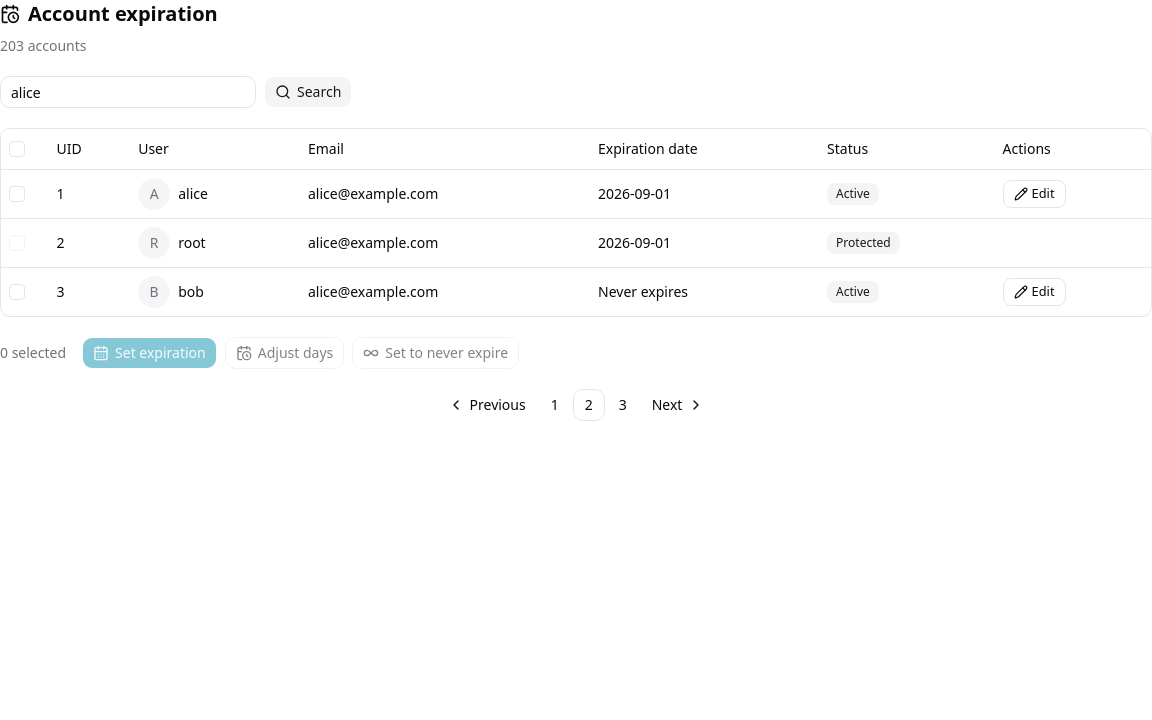
Test: ExpirationPage › rejects invalid days 0
The image size is (1152, 720).
Step 1. Click the checkbox named "Select alice" → (17, 194), box [9,186,25,202]
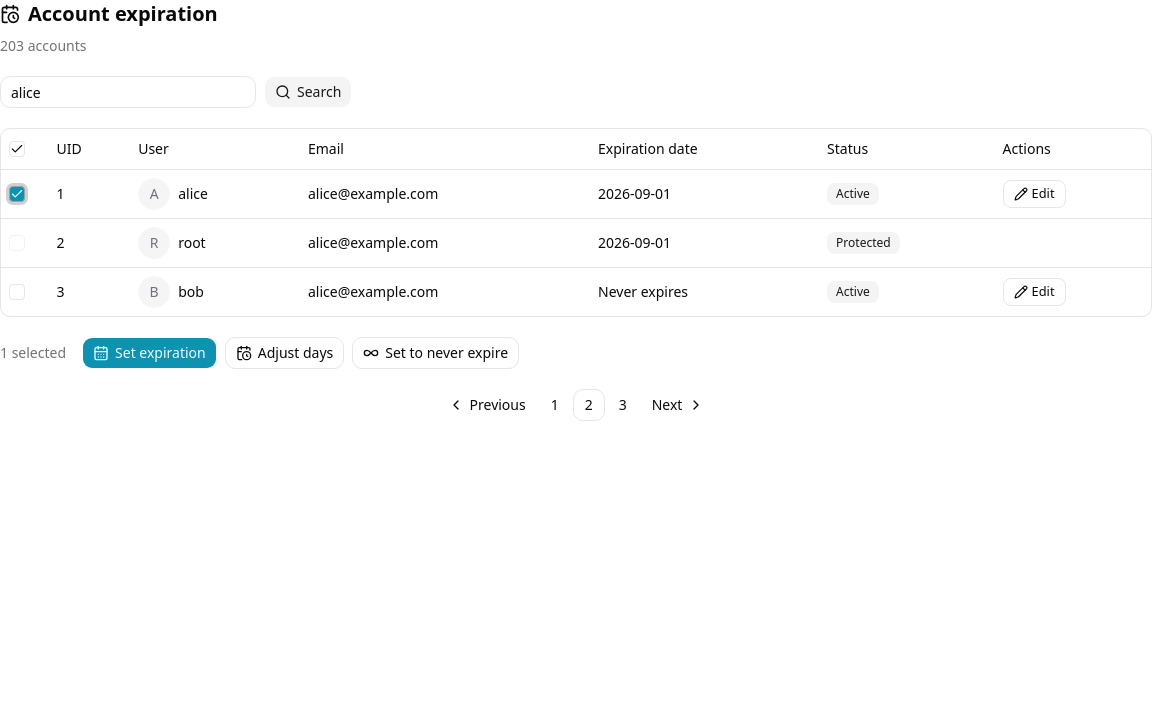
Step 2. Click the button "Adjust days" → (284, 352), box [225,336,344,368]
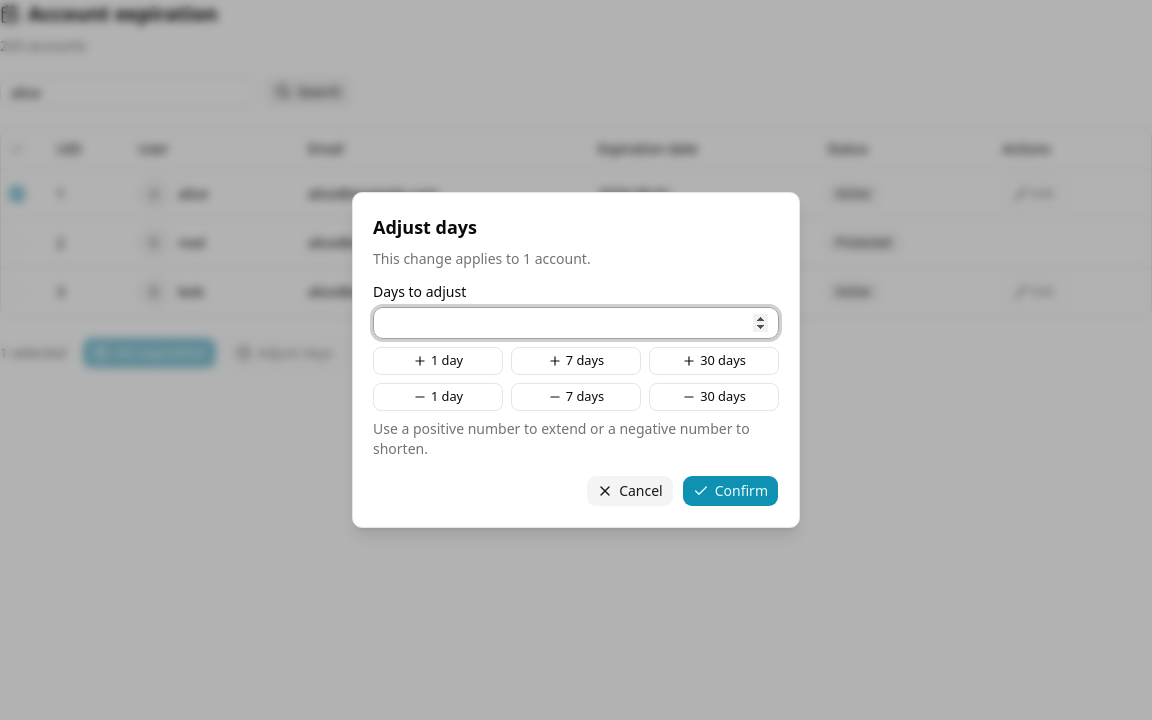
Step 3. Type "0" into the number field labelled "Days to adjust" → (576, 323), box [373,307,779,339]
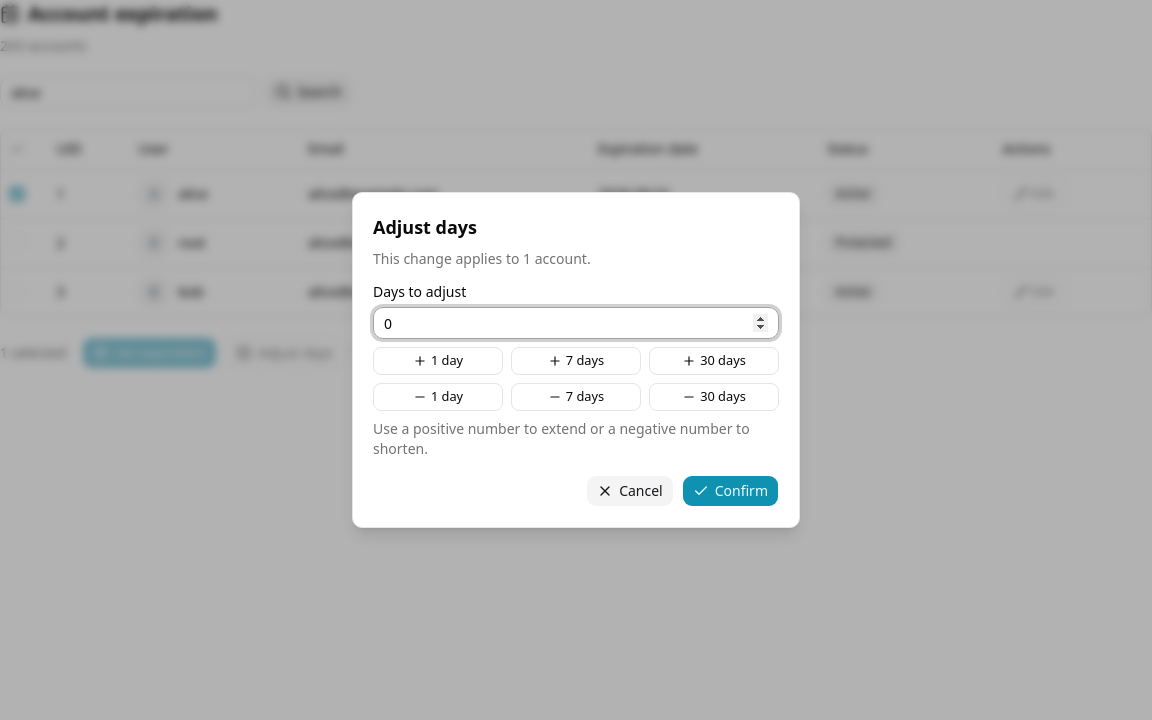
Step 4. Click the button "Confirm" → (730, 491), box [682,475,779,507]
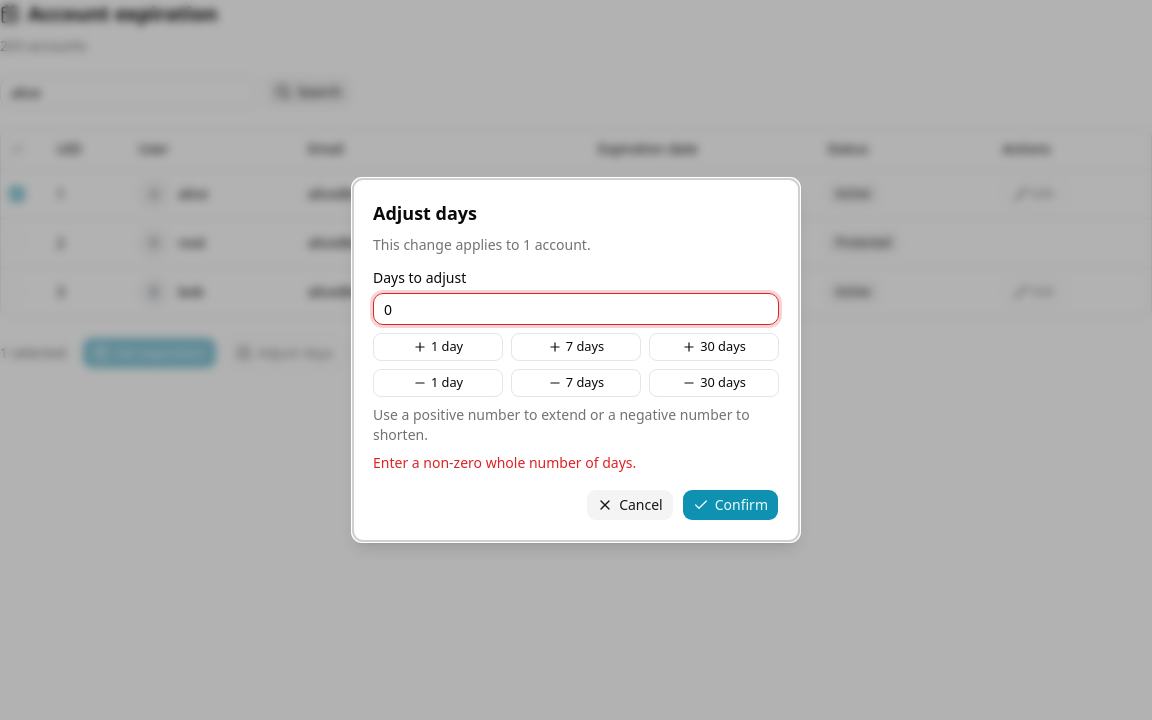
Expected: the message shows "non-zero whole number", [373,453,636,472]
